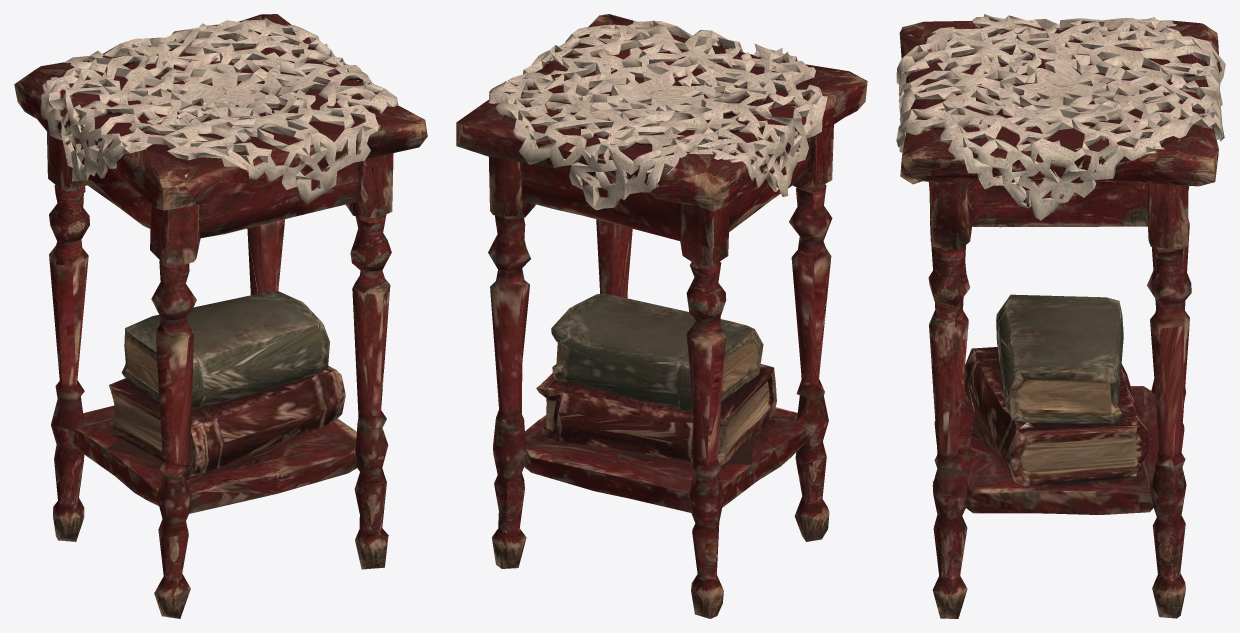
The model's file is p_side_table_b.glb.
3 renders of one model, left to right at view 1: azimuth 30°, elevation 25°; view 2: azimuth 150°, elevation 25°; view 3: azimuth 270°, elevation 25°, orthographic. The views are drawn at different scales.
Visible parts, largest first — view 1: p_side_table_b; view 2: p_side_table_b; view 3: p_side_table_b.
Boxes of the visible parts, x1,y1,x2,y2 form: p_side_table_b: (14,14,427,618); p_side_table_b: (456,14,867,618); p_side_table_b: (896,14,1225,618).
Size of the model in its own units: 0.3789 by 0.62 by 0.3754.
Materials: 1 (1 with a texture image).
